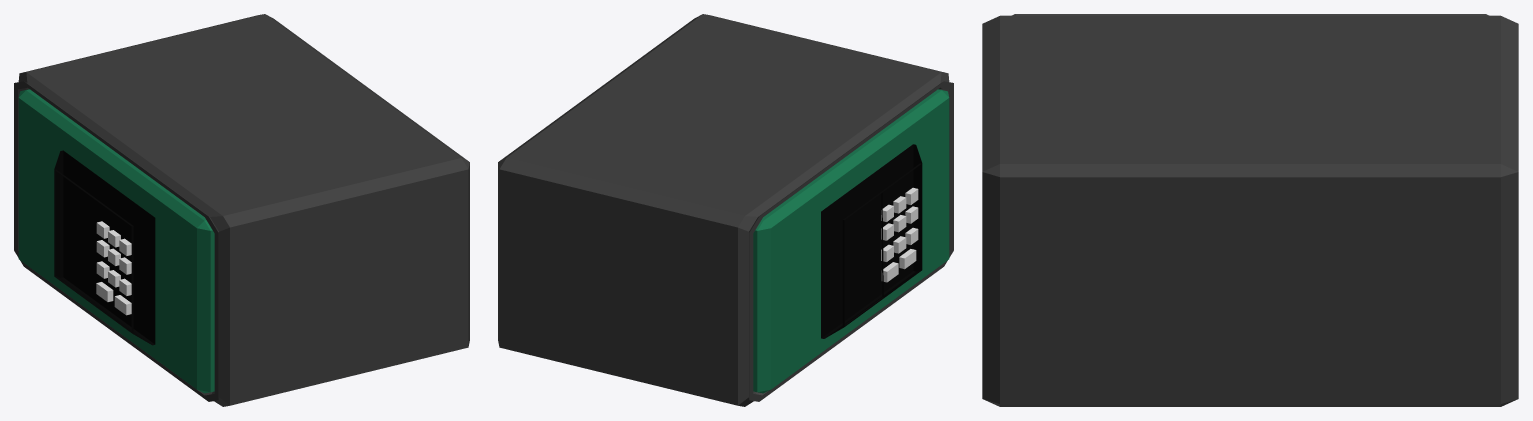
Rendered from Lock.fbx.
The picture shows the model from 3 angles, left to right: view 1: azimuth 30°, elevation 25°; view 2: azimuth 150°, elevation 25°; view 3: azimuth 270°, elevation 25°; orthographic projection. The views are drawn at different scales.
Visible parts, largest first — view 1: Main, Lock, Display, button.003, button, button.002, button.001; view 2: Main, Lock, Display, button.002, button, button.003, button.001; view 3: Main.
Part boxes in pixels (x1,y1,x2,y2): Main: (14,14,469,406); Lock: (18,89,214,393); Display: (54,150,155,345); button.003: (96,240,131,274); button: (96,261,131,295); button.002: (96,221,131,255); button.001: (96,282,131,315); Main: (498,14,953,406); Lock: (753,89,949,393); Display: (821,144,922,338); button.002: (881,187,918,221); button: (881,227,918,261); button.003: (881,206,918,240); button.001: (881,249,916,282); Main: (982,14,1518,406).
Bounding box in the file's own units: 155 × 100 × 200.
